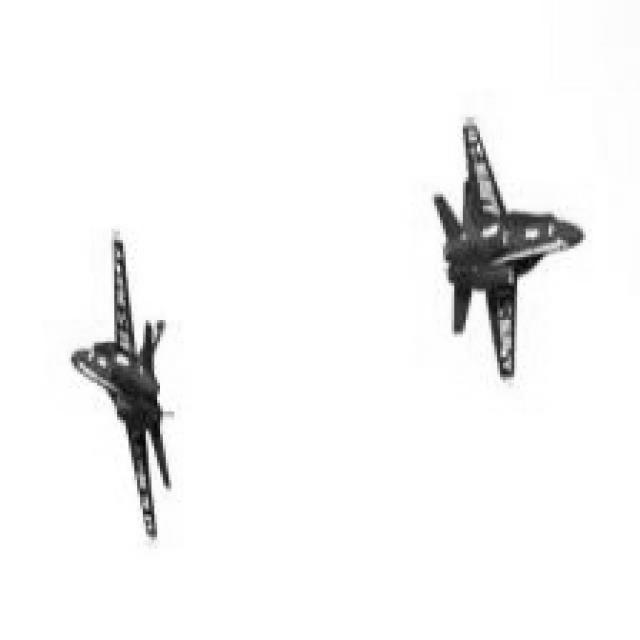aeroplane: (430, 114, 587, 386), (68, 226, 198, 552)
